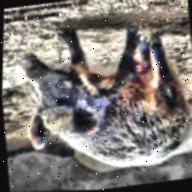boar: (0, 0, 192, 182)
